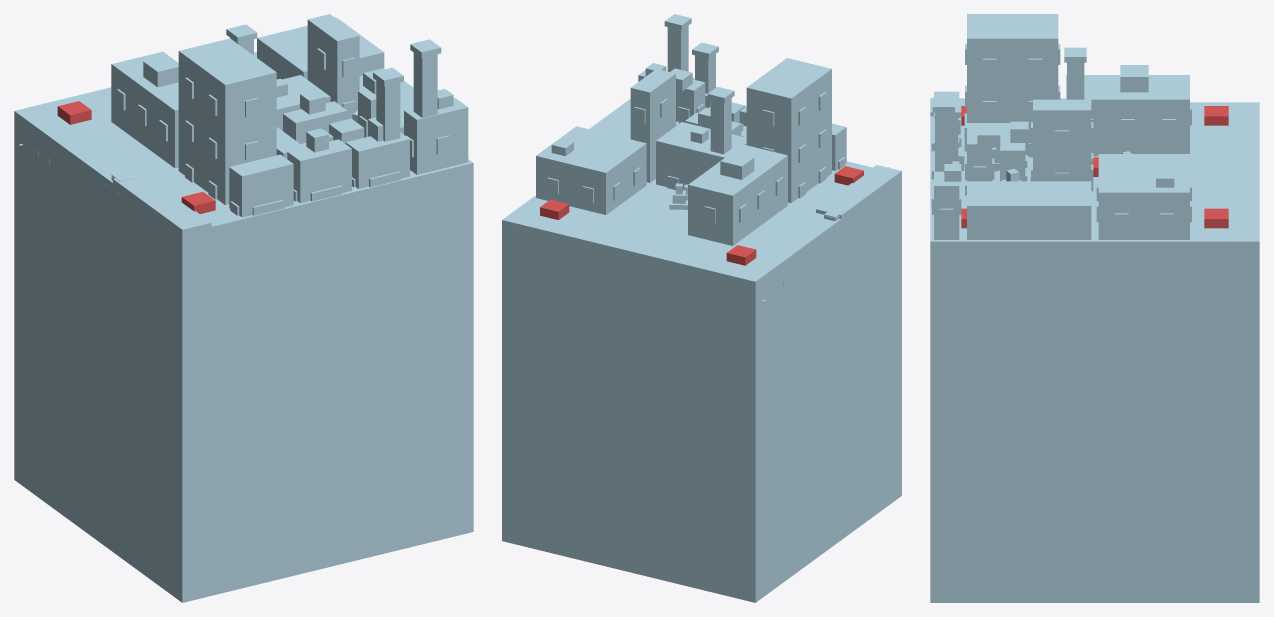
The model's file is block_25_sewersystem_100.glb.
3 views of the same model, side by side, from view 1: azimuth 30°, elevation 25°; view 2: azimuth 150°, elevation 25°; view 3: azimuth 270°, elevation 25° (orthographic). The views are drawn at different scales.
Visible parts, largest first — view 1: Patch_UpperRight_b25_SL, Factories_UpperRight_b25_SL, Roads_UpperRight_b25_SL, SL_Net_25; view 2: Patch_UpperRight_b25_SL, Factories_UpperRight_b25_SL, Roads_UpperRight_b25_SL, SL_Net_25; view 3: Patch_UpperRight_b25_SL, Factories_UpperRight_b25_SL, SL_Net_25.
Part boxes in pixels (x1,y1,x2,y2): Patch_UpperRight_b25_SL: (14,52,473,602); Factories_UpperRight_b25_SL: (111,14,468,217); Roads_UpperRight_b25_SL: (21,146,211,233); SL_Net_25: (57,101,215,213); Patch_UpperRight_b25_SL: (502,161,901,602); Factories_UpperRight_b25_SL: (536,14,846,245); Roads_UpperRight_b25_SL: (502,165,901,308); SL_Net_25: (540,166,863,265); Patch_UpperRight_b25_SL: (930,102,1259,602); Factories_UpperRight_b25_SL: (931,14,1191,239); SL_Net_25: (961,106,1228,228).
Bounding box in the file's own units: 9.6 × 15.31 × 9.5.
